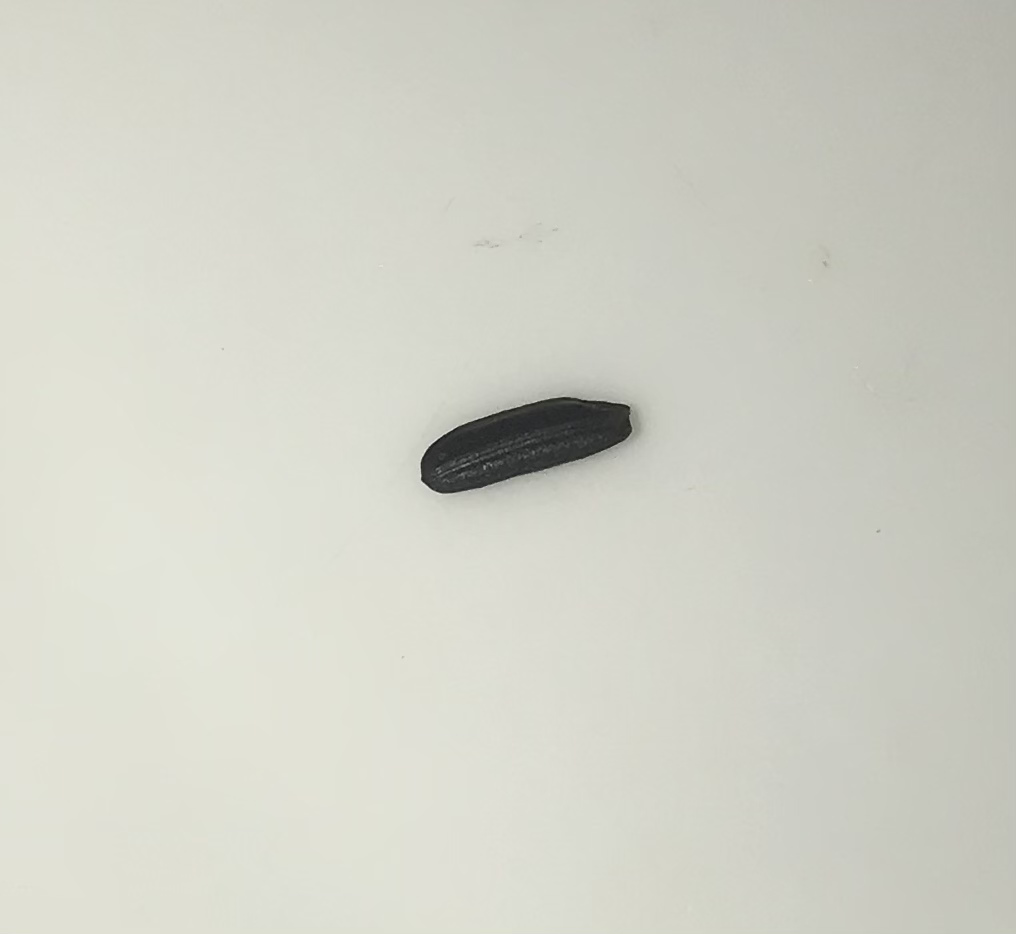Gao Nep Cam: (411, 387, 644, 504)
